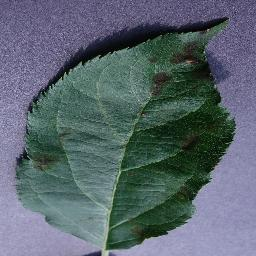apple healthy: (14, 15, 237, 255)
